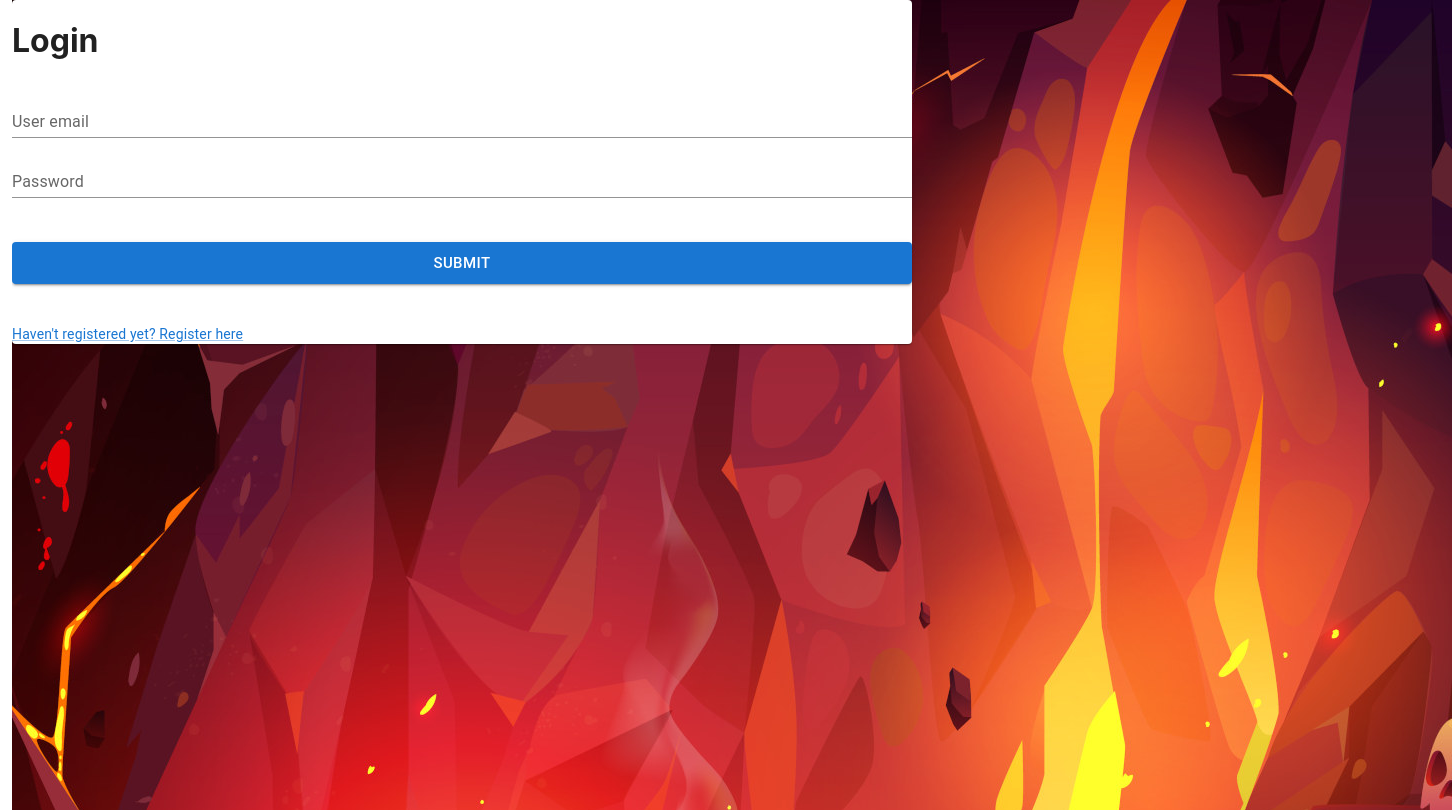
Login › shows account-creation success rather than claiming a user was registered
The width and height of the screenshot is (1452, 810).
Click the button "Haven't registered yet? Register here" at (128, 334), box [12,324,243,344]
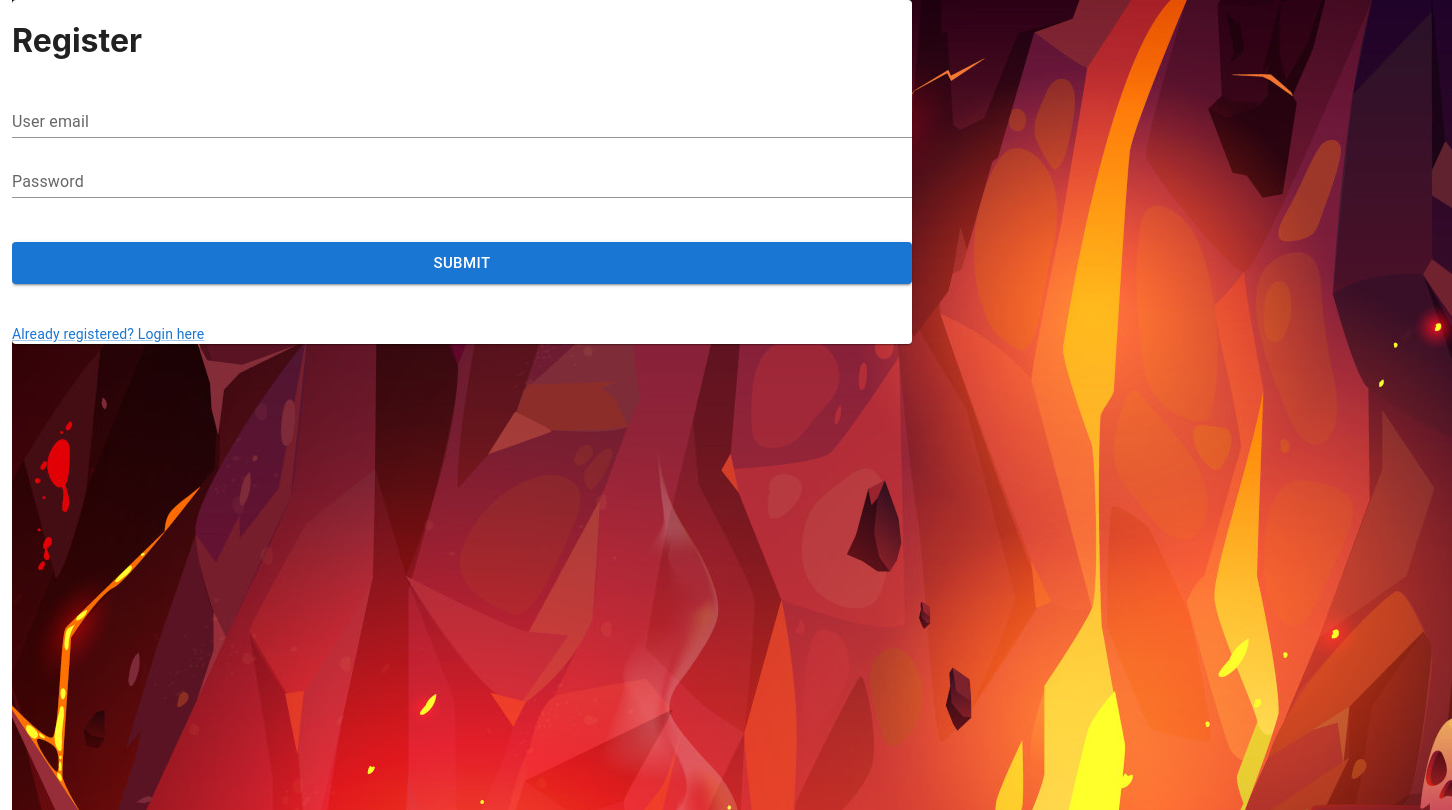
Type "player@example.com" into the field labelled "User email" at (462, 122), box [12,106,912,138]
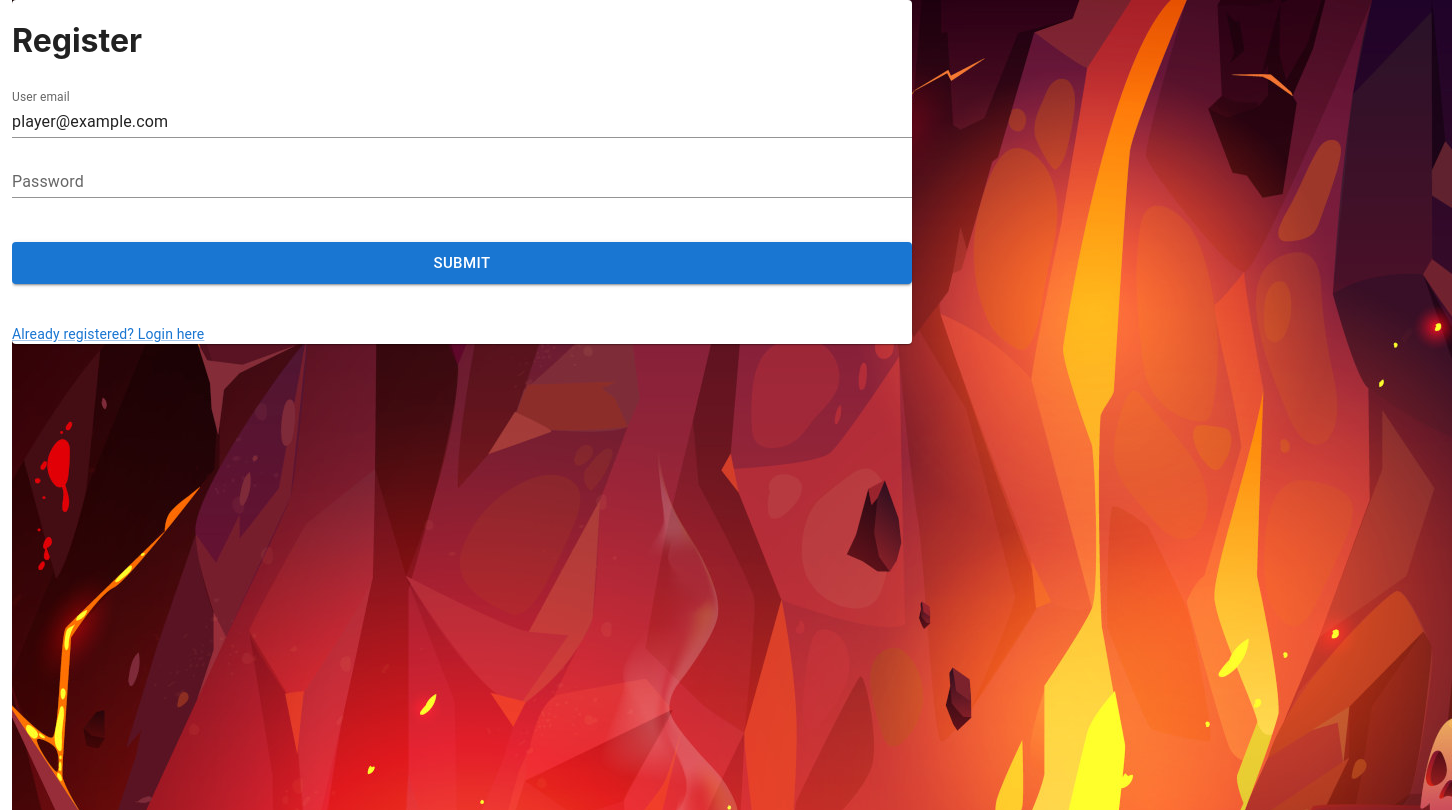
Type "safe-password" into the password field labelled "Password" at (462, 182), box [12,166,912,198]
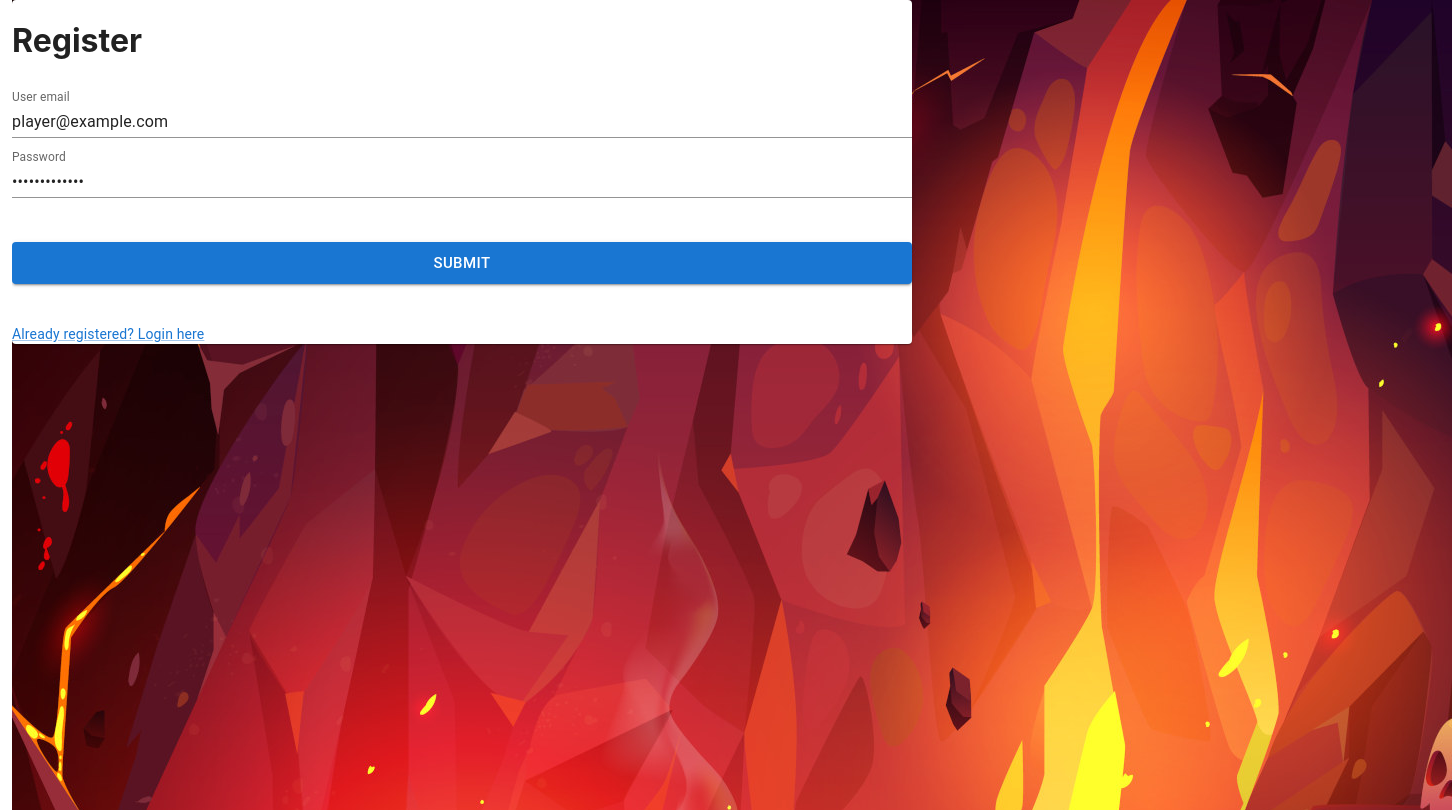
Click the button "Submit" at (462, 263), box [12,242,912,284]
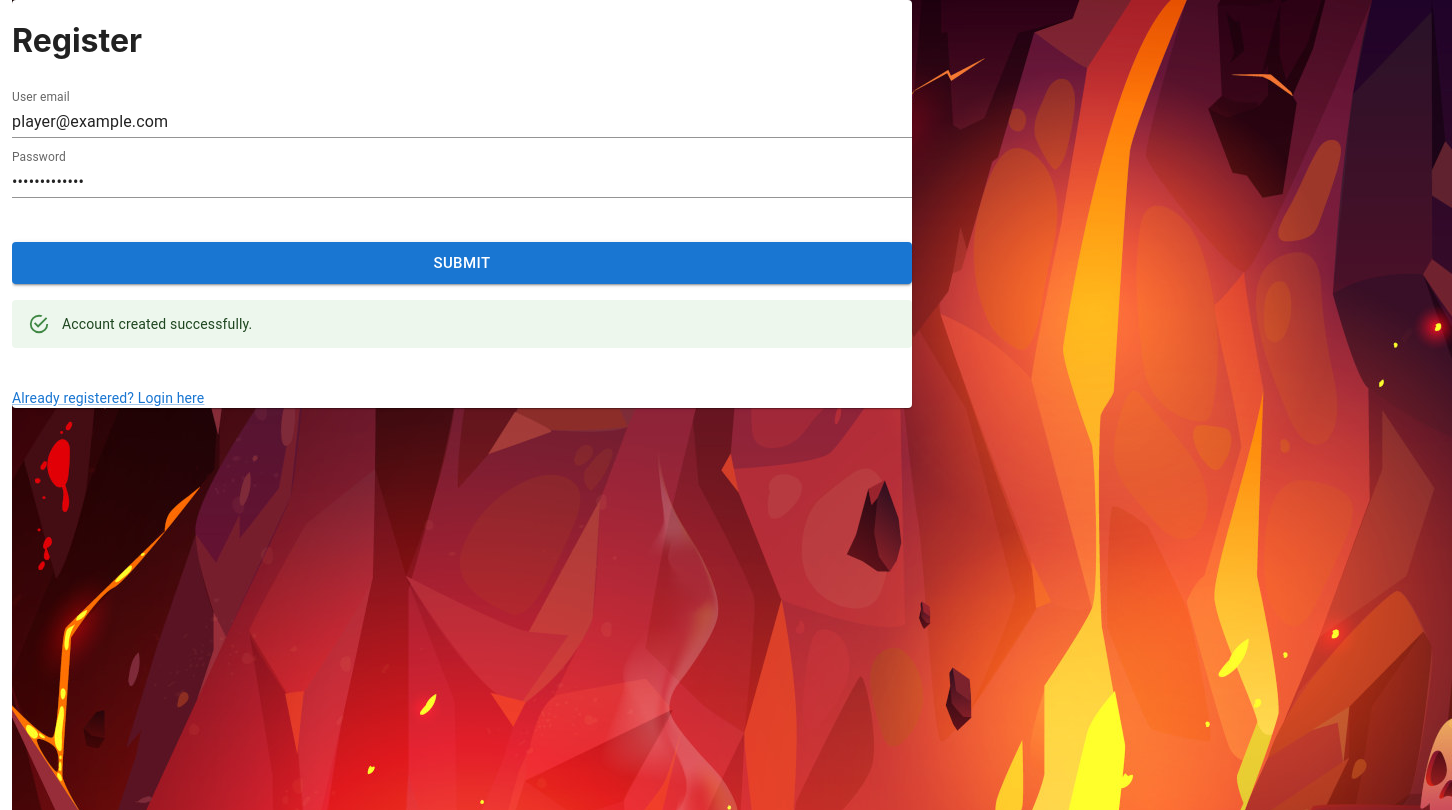
Now the text "Account created successfully." is shown, box [62,316,252,332]
